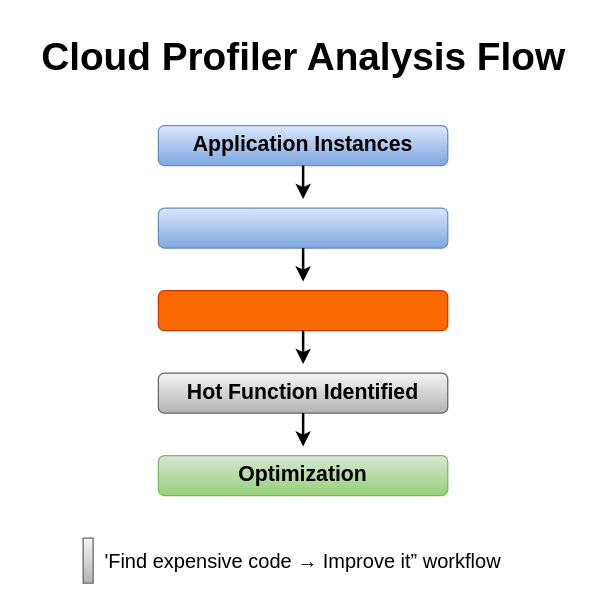
Image size: 606x605. Some labels were removed from this diagram. The shapes that lost their labels are listed below. From the top down, each one's box as (x1, y1, x2, y2) in pixels, then its label:
(157, 207, 448, 248): Profiler Samples
(157, 289, 448, 331): CPU / Memory Analysis
